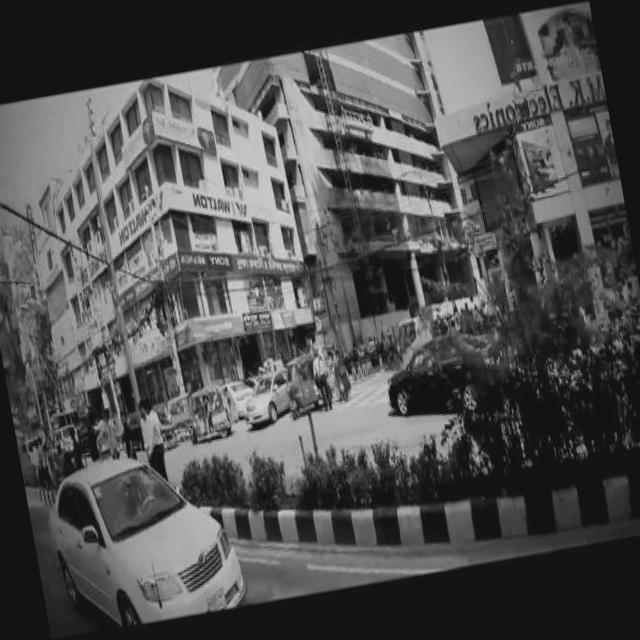car: (39, 436, 248, 630), (379, 323, 505, 415), (237, 363, 295, 423), (222, 372, 258, 413)
motorcycle: (282, 348, 334, 414), (182, 379, 234, 440)
